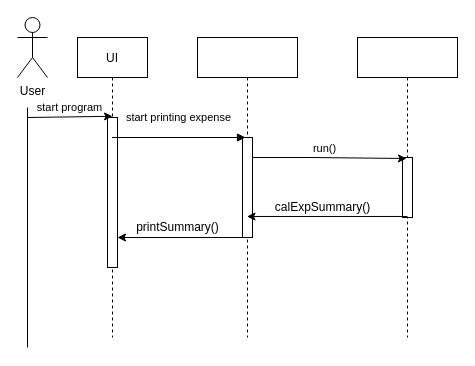
The diagram is 475 pixels wide and 366 high, and some of its shapes have lost their labels. Each missing label, with the box of its shape:
MoneyTracker: (196, 36, 298, 338)
Summary: (356, 36, 458, 338)
